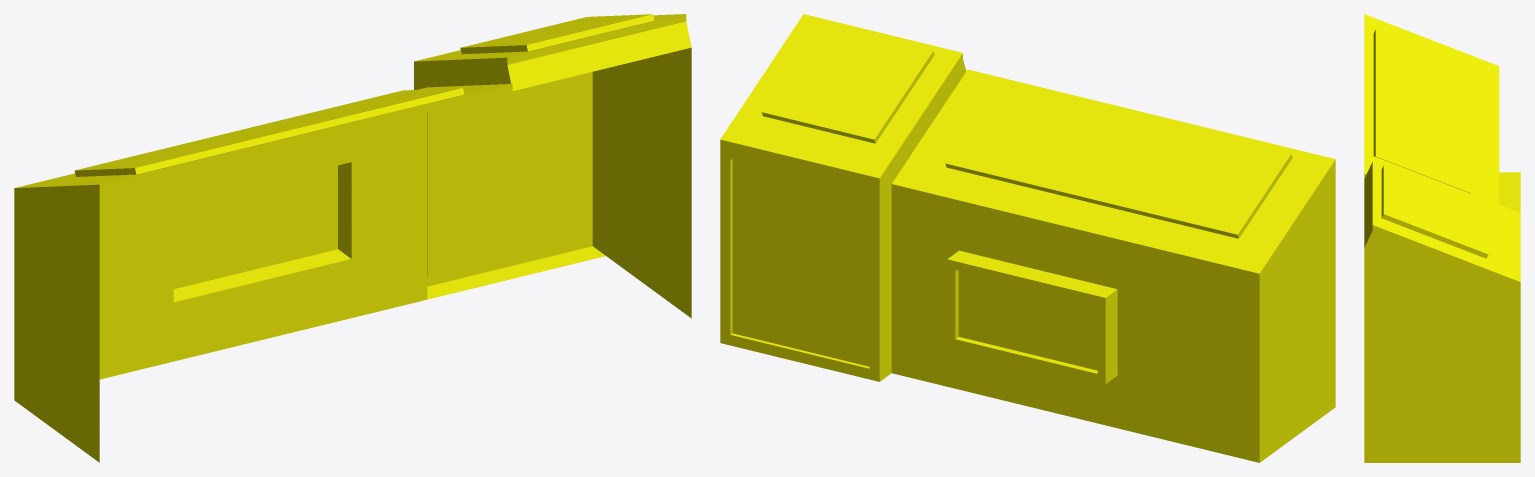
The model's file is Generador.fbx.
The picture shows the model from 3 angles, left to right: view 1: azimuth 30°, elevation 25°; view 2: azimuth 150°, elevation 25°; view 3: azimuth 270°, elevation 25°; orthographic projection. The views are drawn at different scales.
Parts seen in each view (by area): view 1: generador; view 2: generador; view 3: generador.
Boxes of the visible parts, <box> form: generador: <box>14,14,691,462</box>; generador: <box>720,14,1335,462</box>; generador: <box>1364,14,1520,462</box>.
Bounding box in the file's own units: 80 × 38.98 × 23.14.
